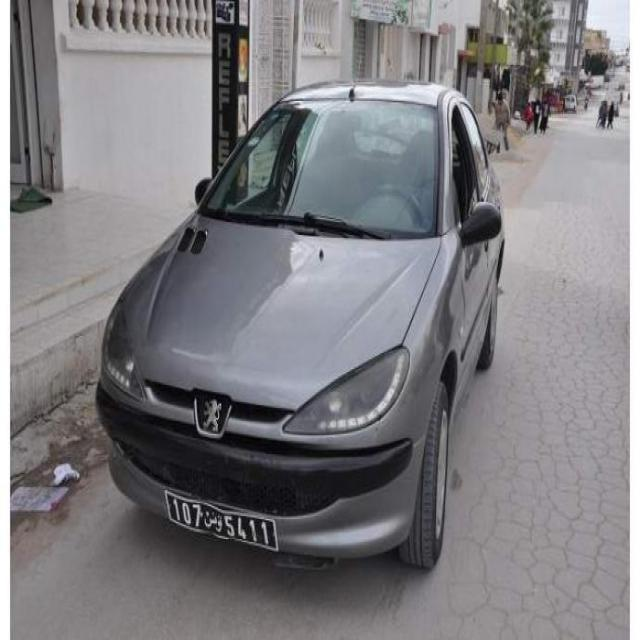LP: (164, 488, 280, 555)
